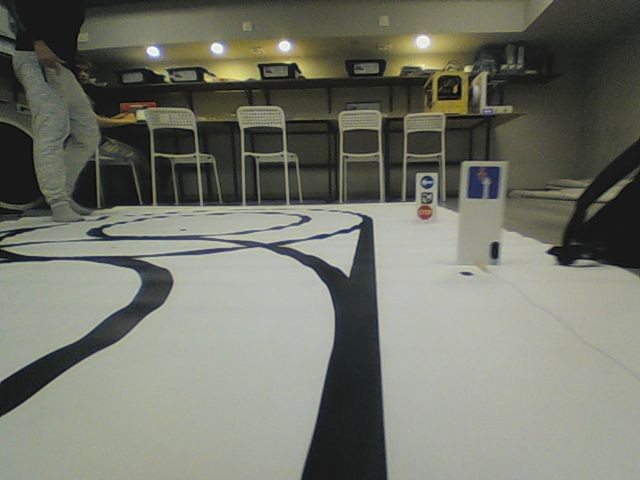Stop: (417, 205, 433, 220)
priority_movement: (466, 165, 501, 200)
